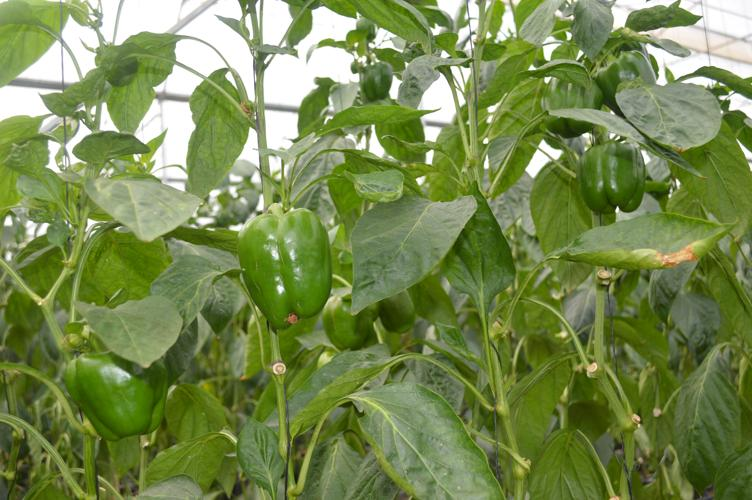BellPepper: (241, 209, 330, 319), (67, 351, 167, 435), (576, 142, 644, 213), (542, 69, 597, 130), (598, 51, 655, 103), (323, 294, 371, 347), (379, 289, 414, 335), (360, 60, 392, 106)
